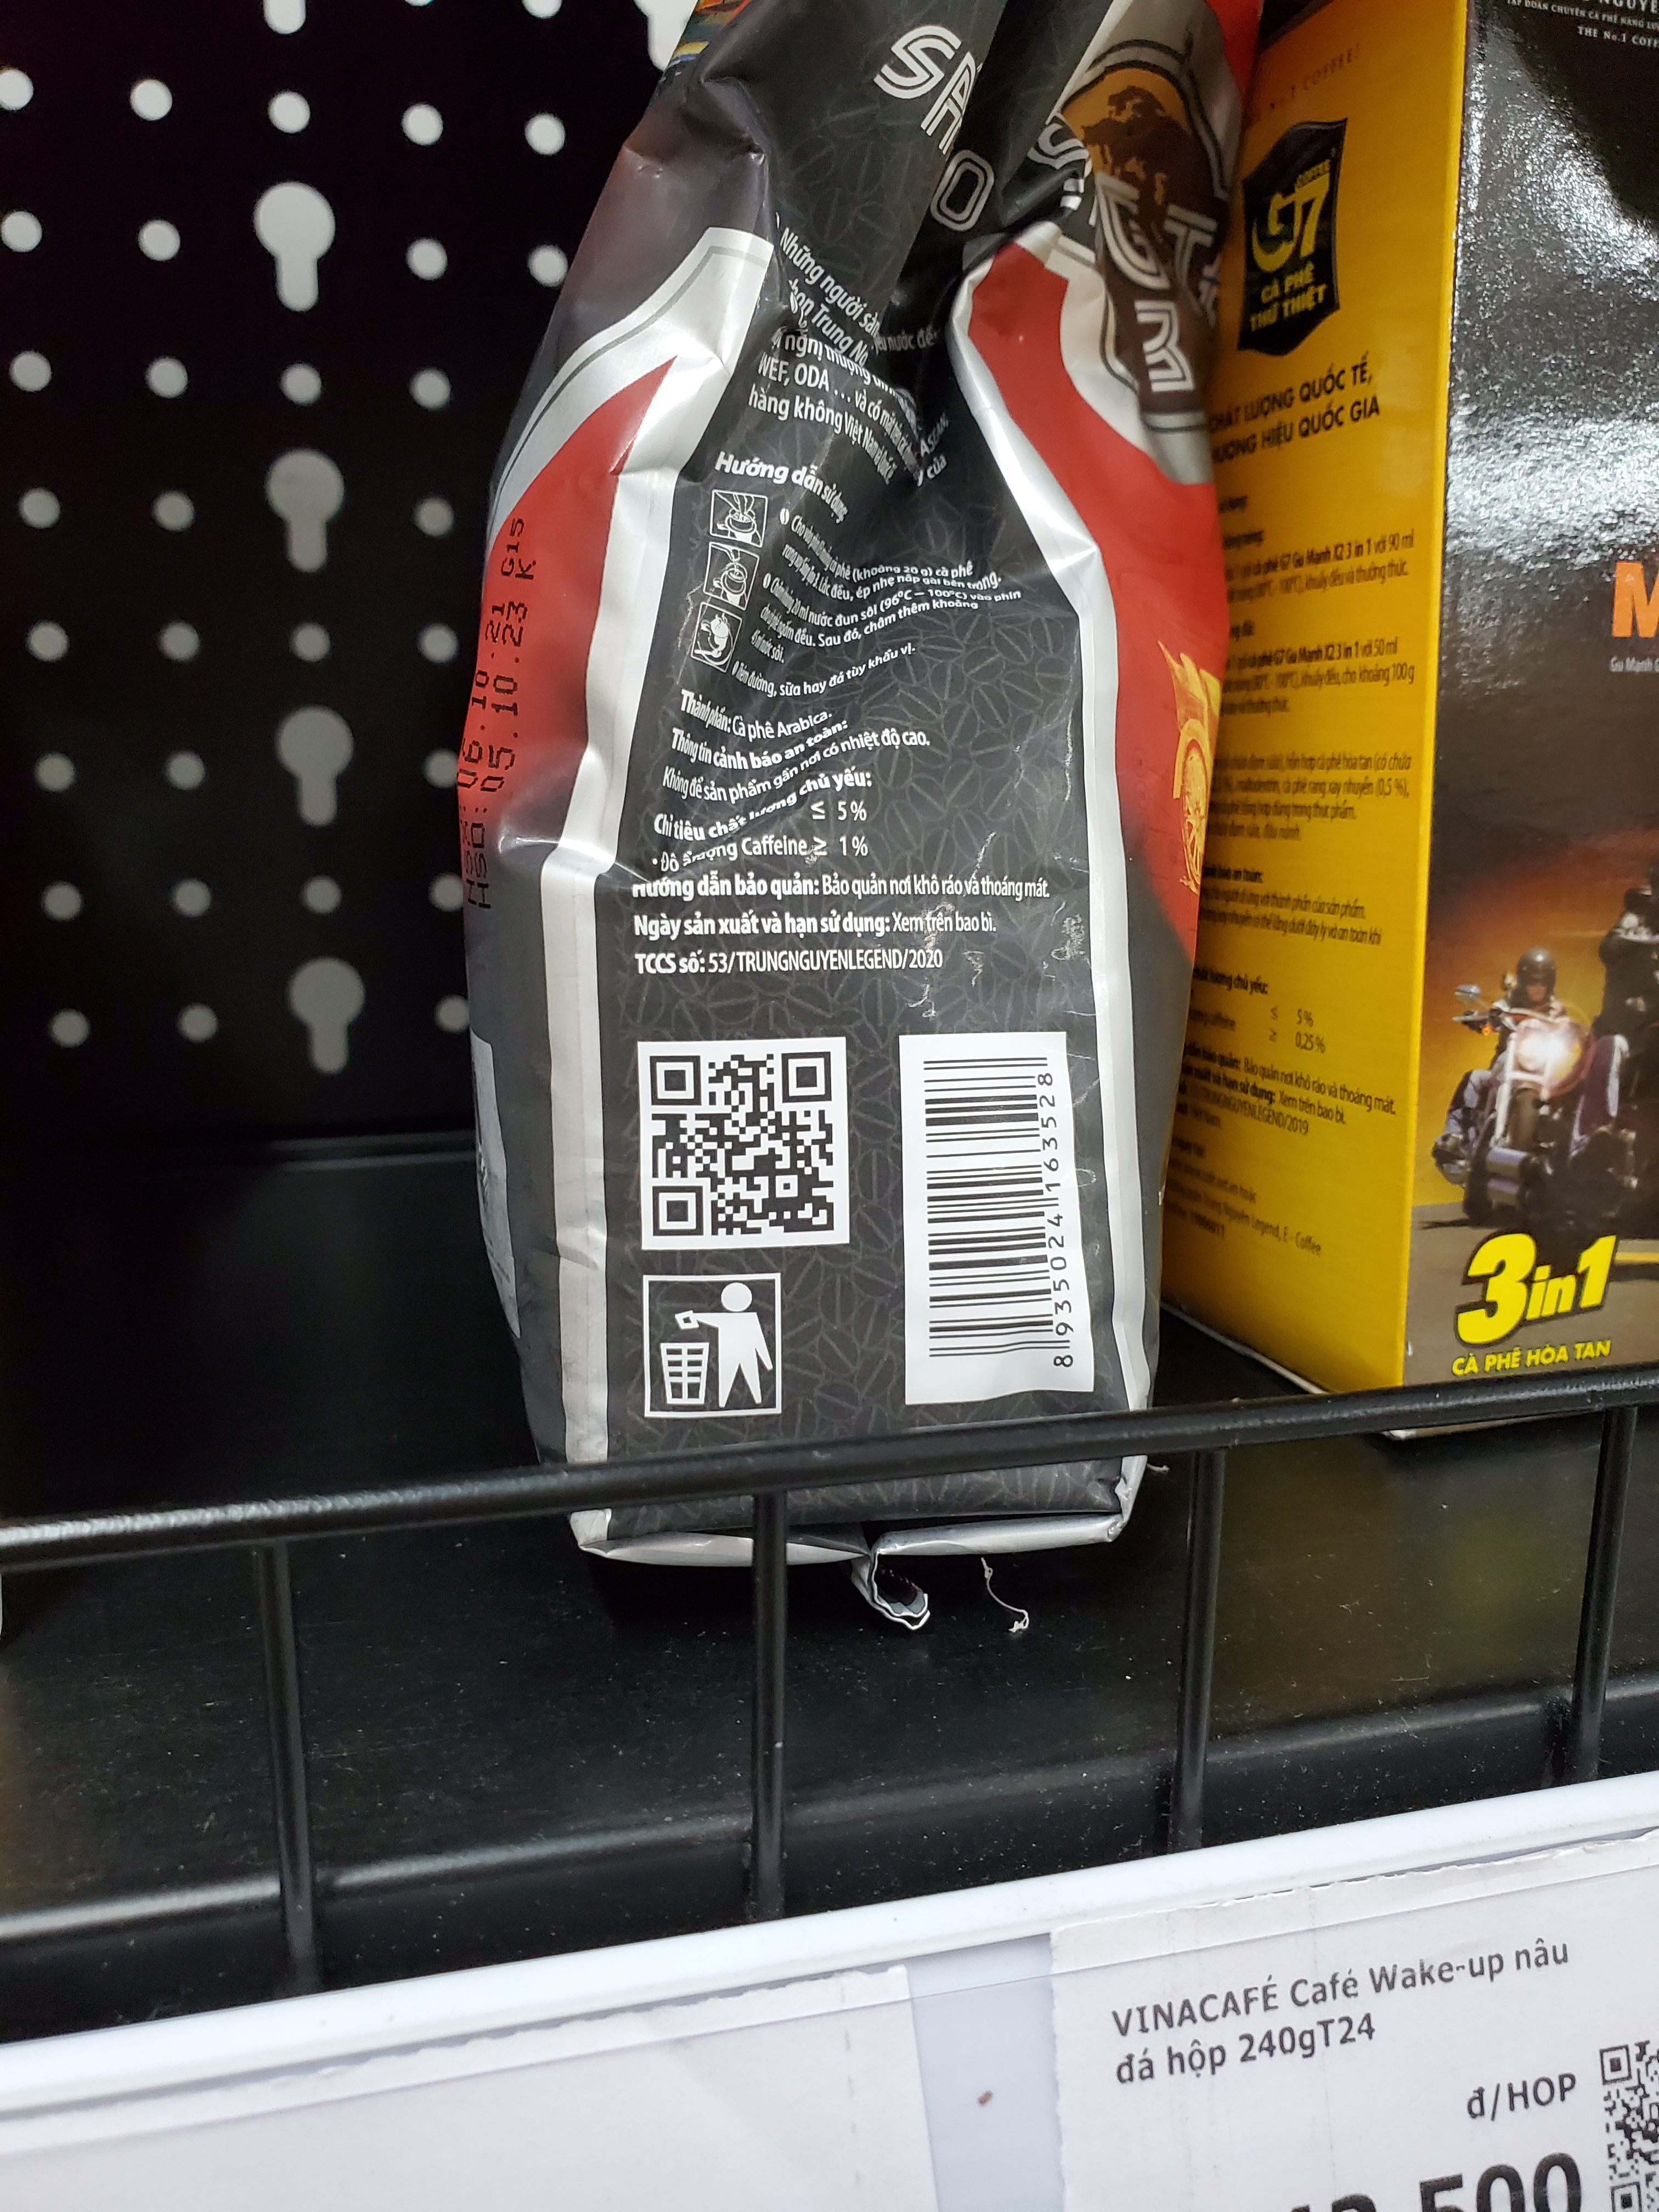barcode: (887, 1022, 1107, 1399)
qr code: (622, 1028, 857, 1254)
